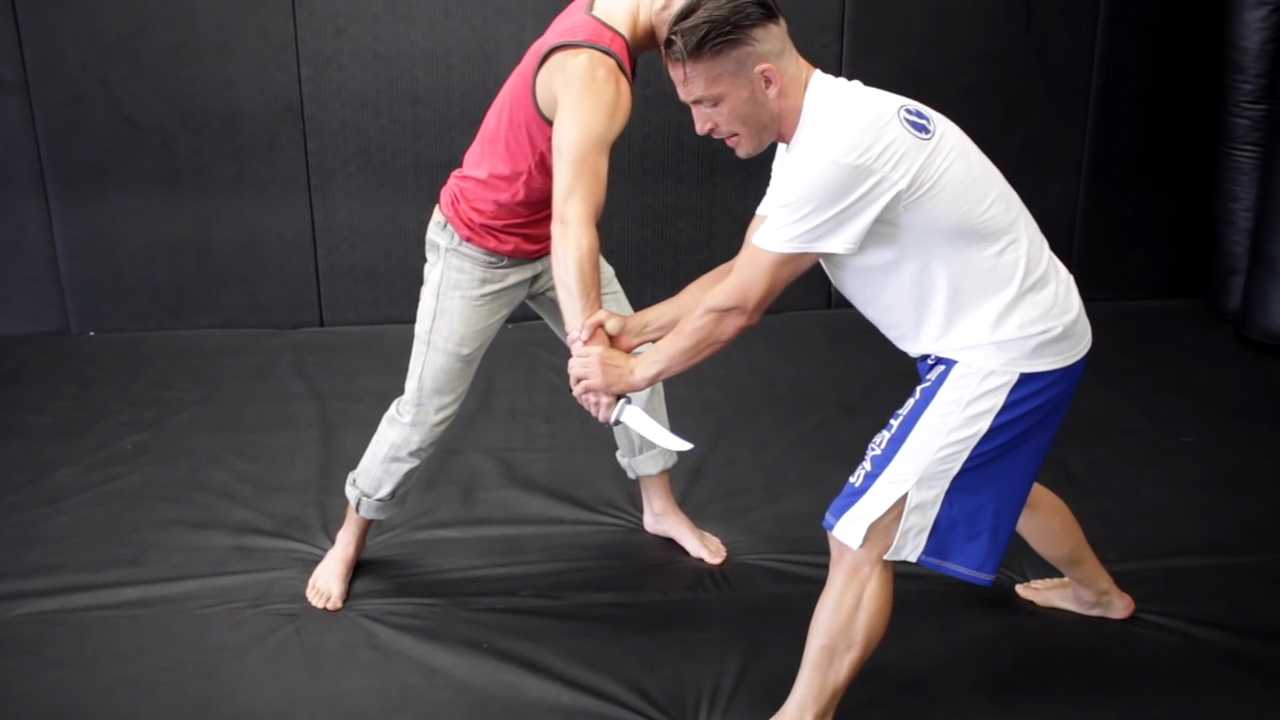knife: (563, 387, 706, 456)
